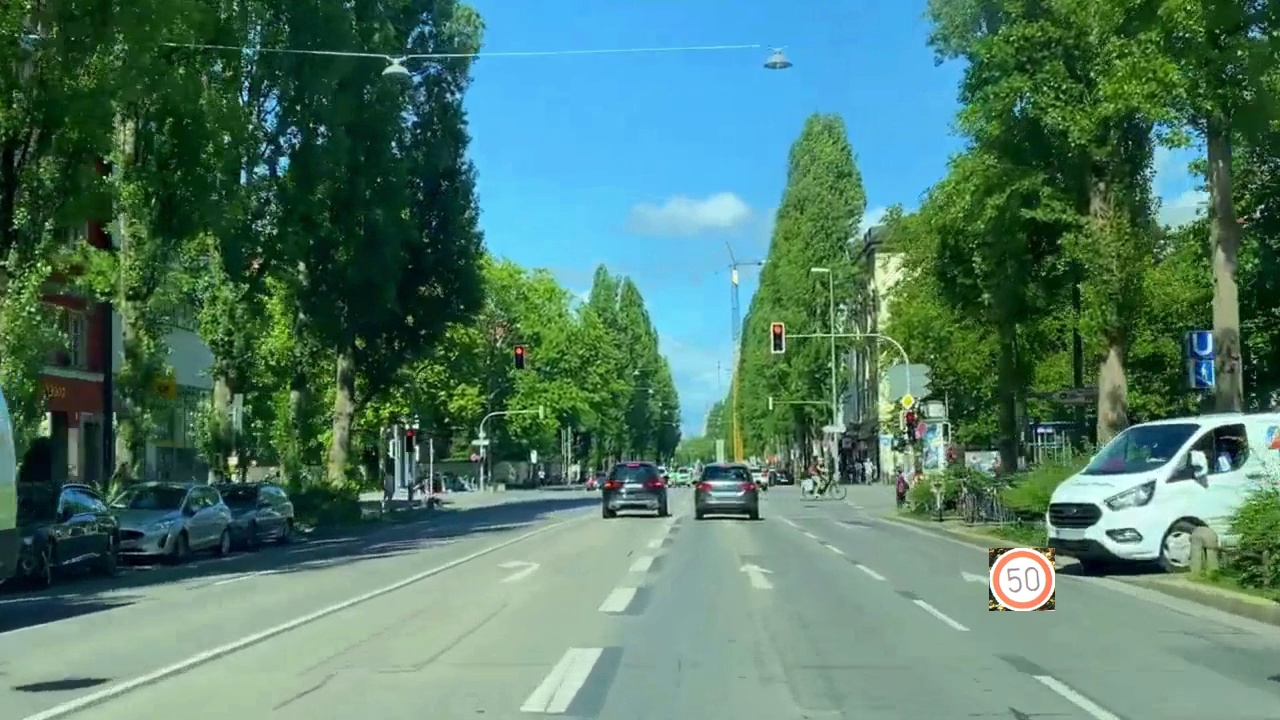Speed 50: (989, 548, 1055, 611)
